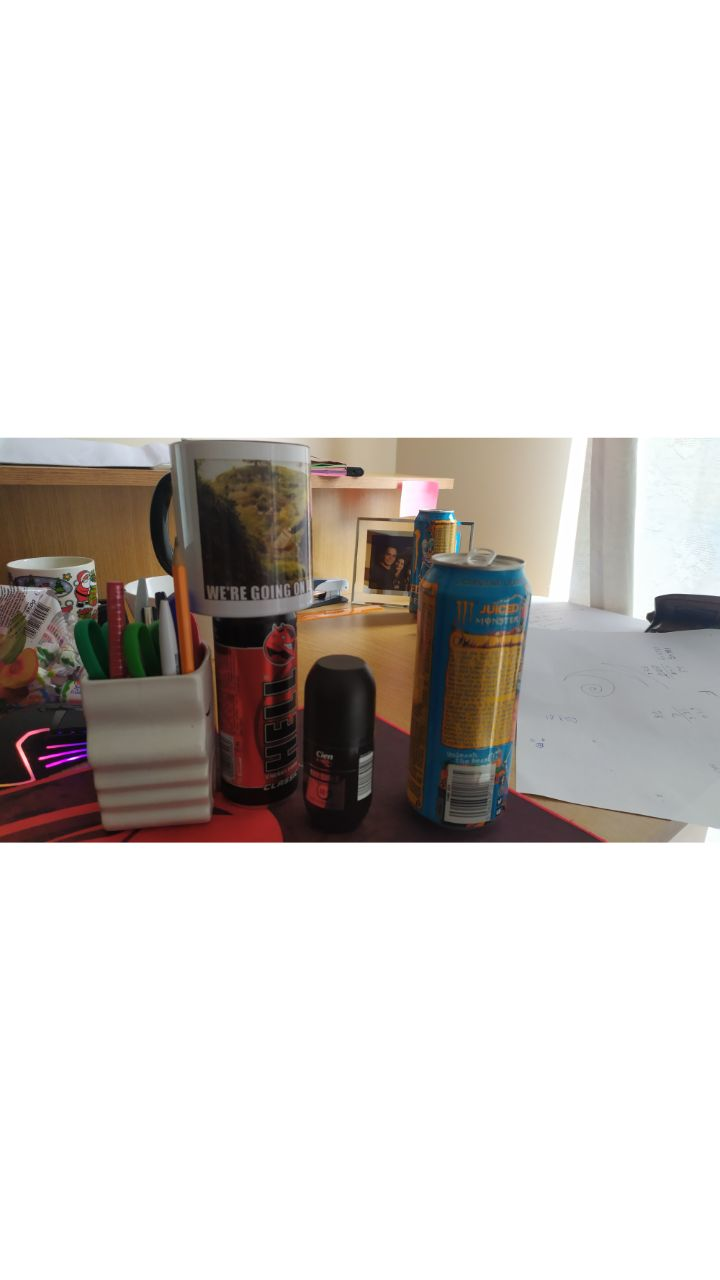Can: (411, 549, 535, 835), (211, 615, 301, 811), (416, 509, 459, 569)
